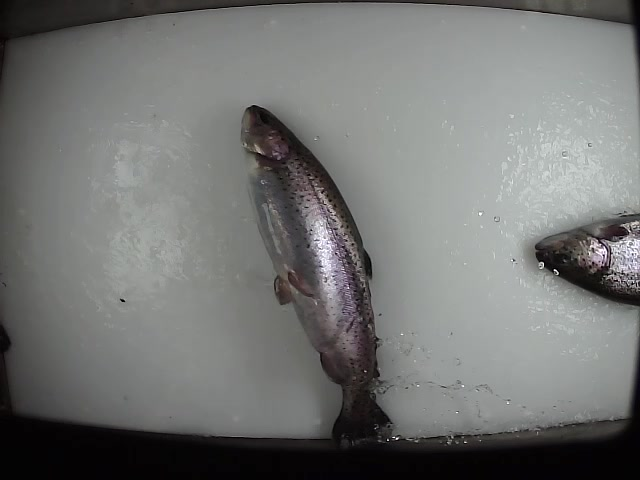fish: (238, 103, 395, 448)
